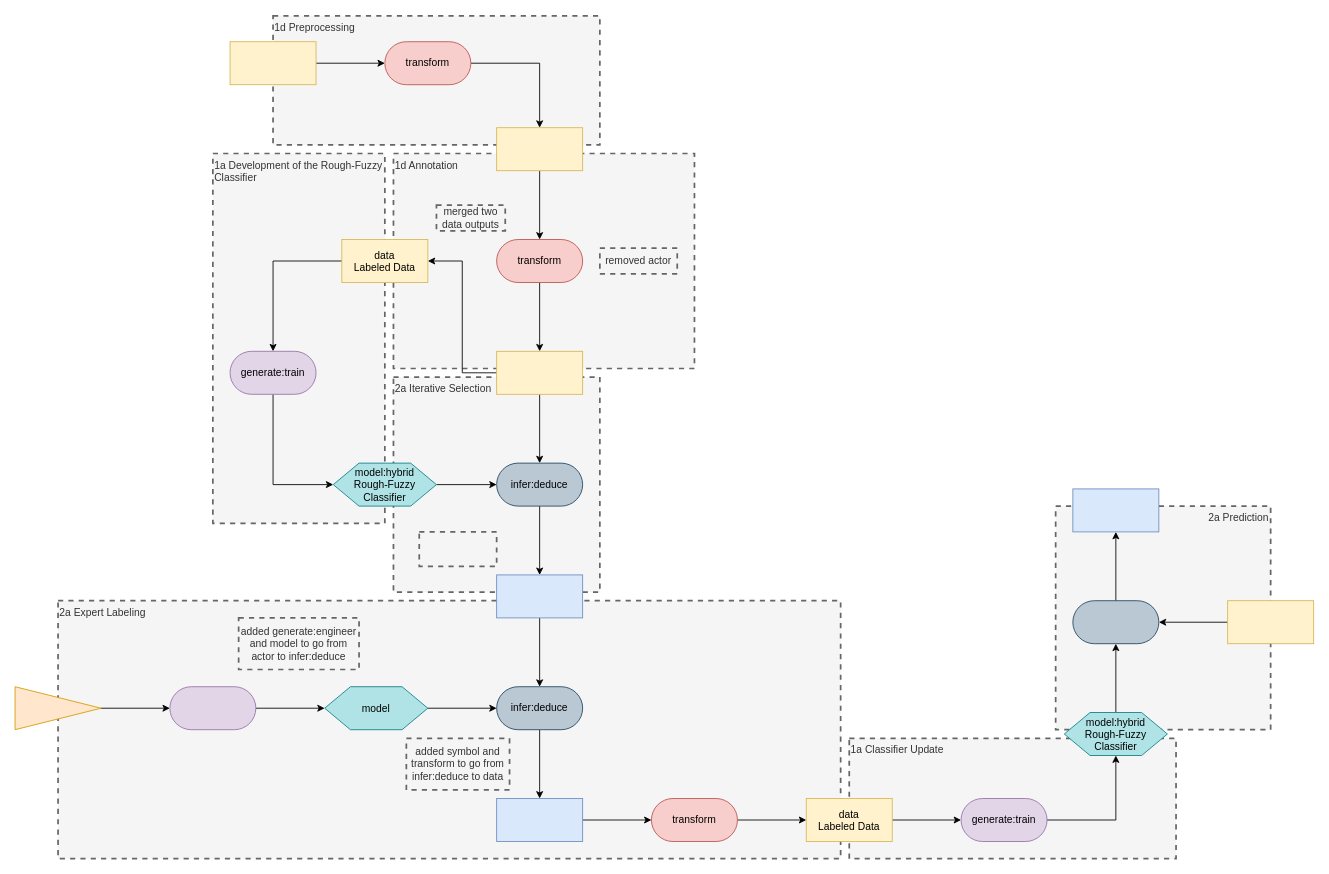
Image size: 1329x874. Some labels were removed from this diagram. The shapes that lost their labels are listed below. From the top down, each one's centre as x and y in pixels, then its label:
At (x=272, y=63): "data Raw Microarray Gene Expression Datasets".
At (x=539, y=149): "data Cleaned and Normalized".
At (x=539, y=372): "data Unlabeled Data".
At (x=1115, y=510): "symbol Cancer Type".
At (x=457, y=549): "replaced data with symbol".
At (x=539, y=596): "symbol Most Uncertain Data".
At (x=1115, y=622): "infer:predict".
At (x=1270, y=622): "data Patient Data".
At (x=57, y=708): "actor Experts".
At (x=212, y=708): "generate:engineer".
At (x=539, y=820): "symbol".
